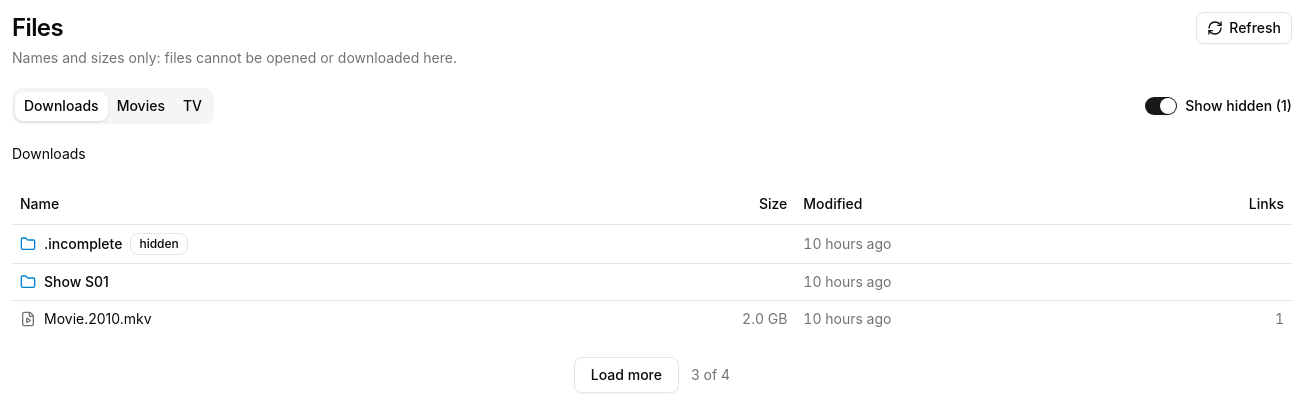
Test case: Files › hides hidden entries on request and remembers it
Click the switch named "show hidden": (1161, 106) [1145,97,1177,115]
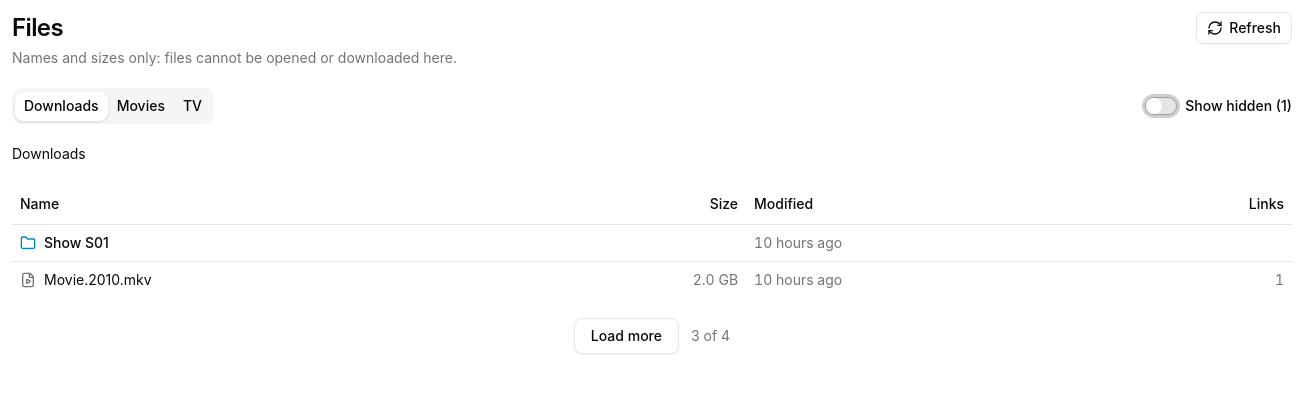
Check: the link "Show S01" is shown, box [44,232,109,252]
Check: the link ".incomplete" is gone
